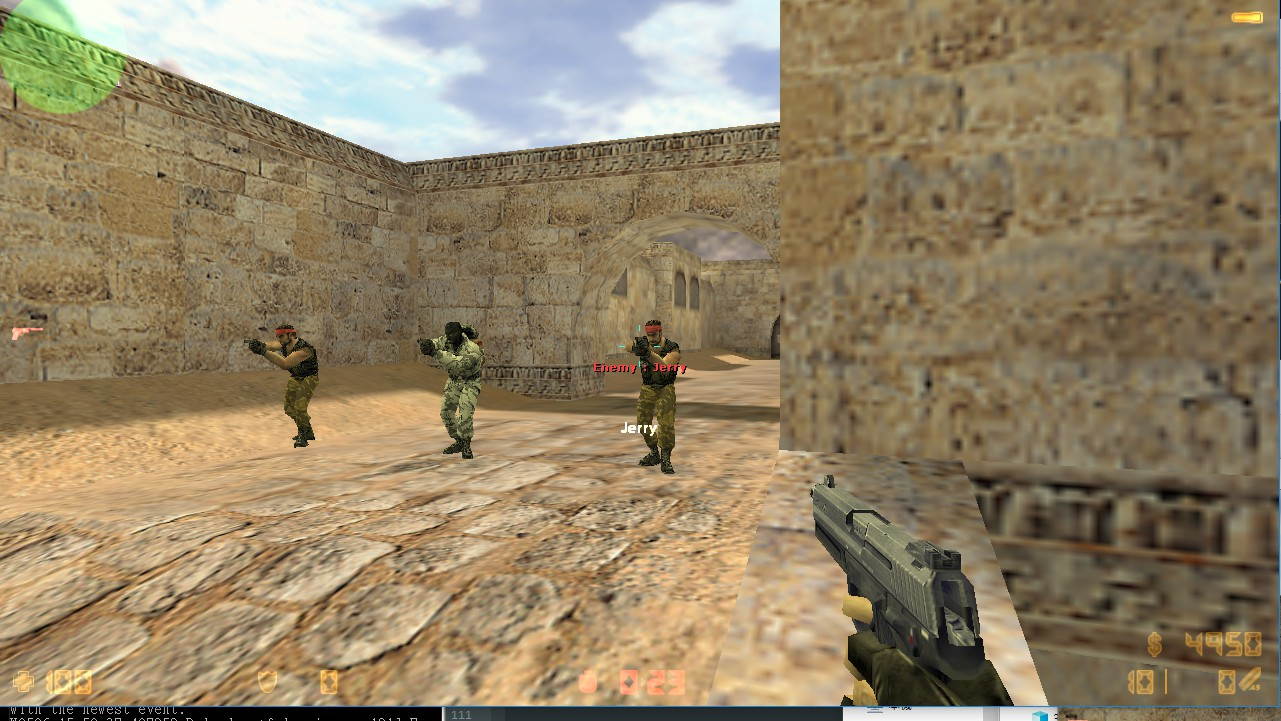person: (615, 318, 691, 477), (421, 313, 486, 467), (255, 318, 324, 447)
